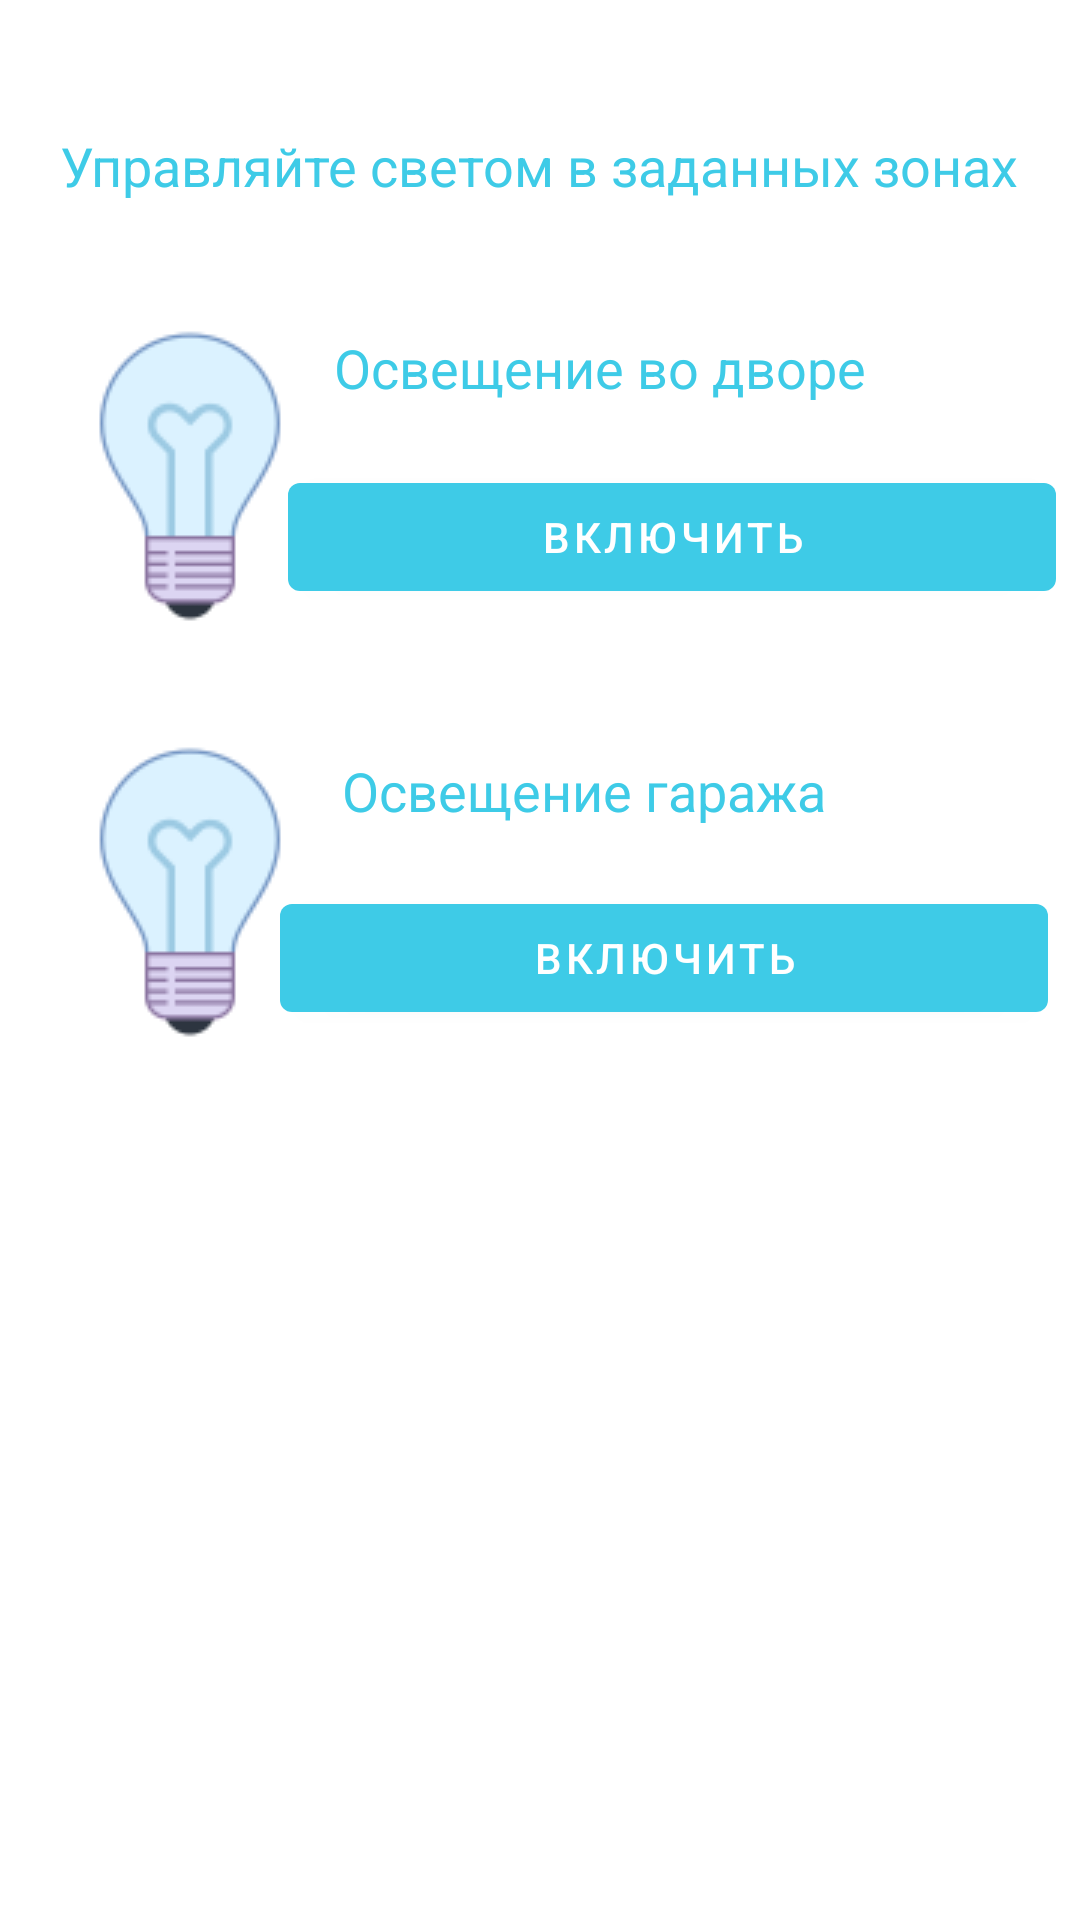

Locate icon controls on the screen. Image size 1080w x 1920h, boxes as (x1, y1, x2, y2).
turn off lights: (99, 332, 281, 621), (99, 748, 281, 1037)
